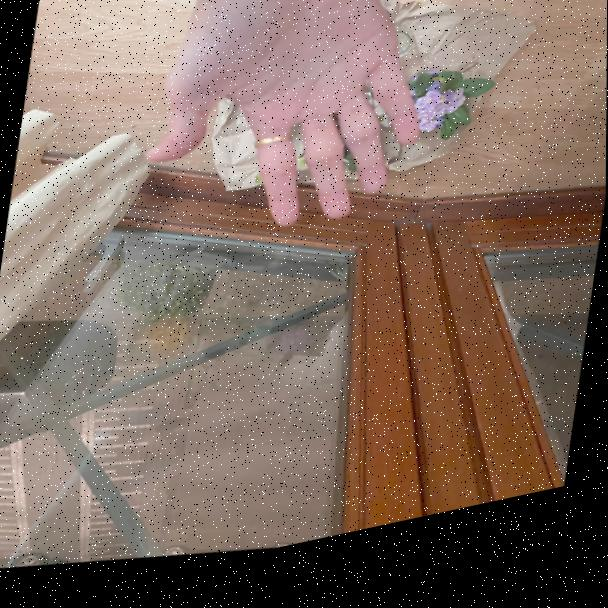five: (136, 0, 447, 282)
